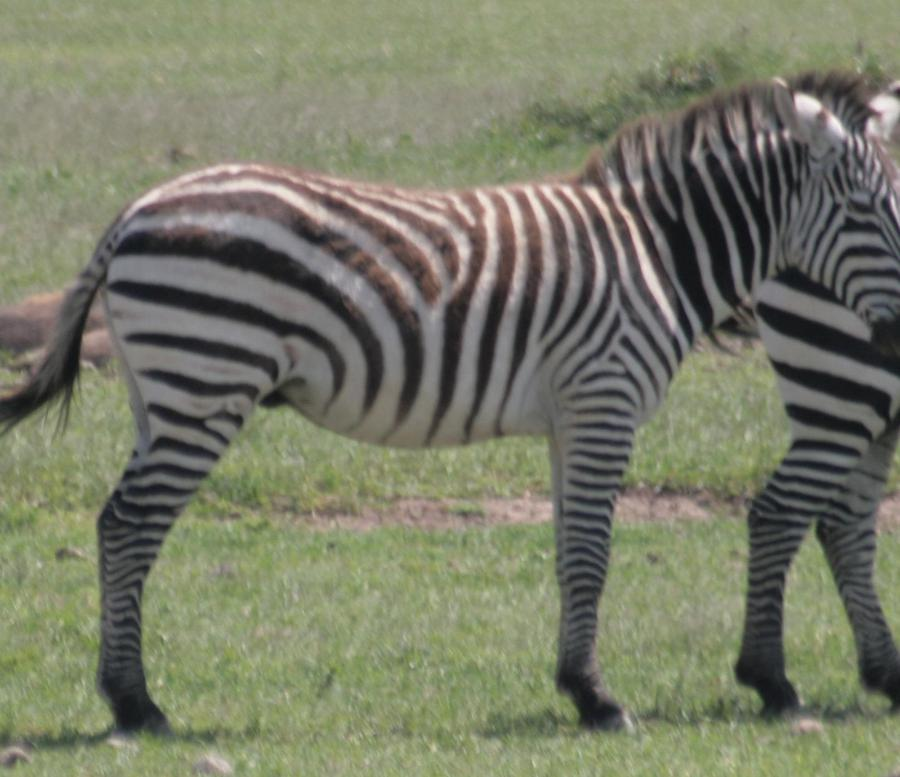zebra_plains: (81, 122, 694, 485)
